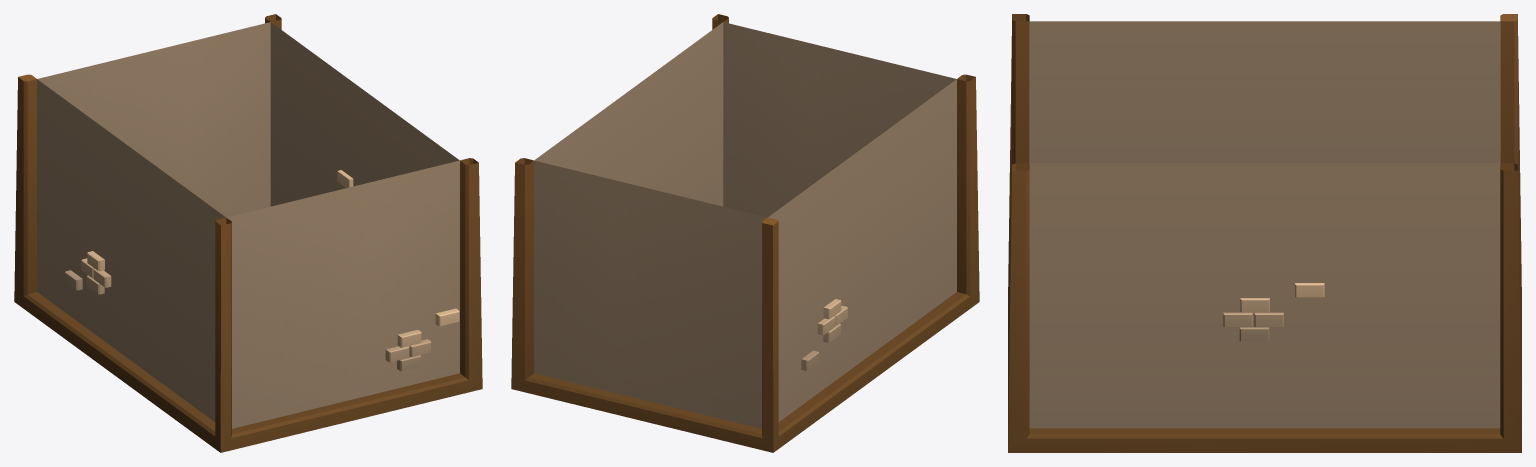
File: House_MiddleFloor.fbx
3 renders of one model, left to right at view 1: azimuth 30°, elevation 25°; view 2: azimuth 150°, elevation 25°; view 3: azimuth 270°, elevation 25°, orthographic. The views are drawn at different scales.
Visible parts, largest first — view 1: pCube84; view 2: pCube84; view 3: pCube84.
Part boxes in pixels (x1=…): pCube84: x1=14, y1=14, x2=482, y2=452; pCube84: x1=511, y1=14, x2=979, y2=452; pCube84: x1=1008, y1=14, x2=1521, y2=452.
Size of the model in its own units: 5.3 by 4.36 by 7.23.
1 material, 1 textured.
